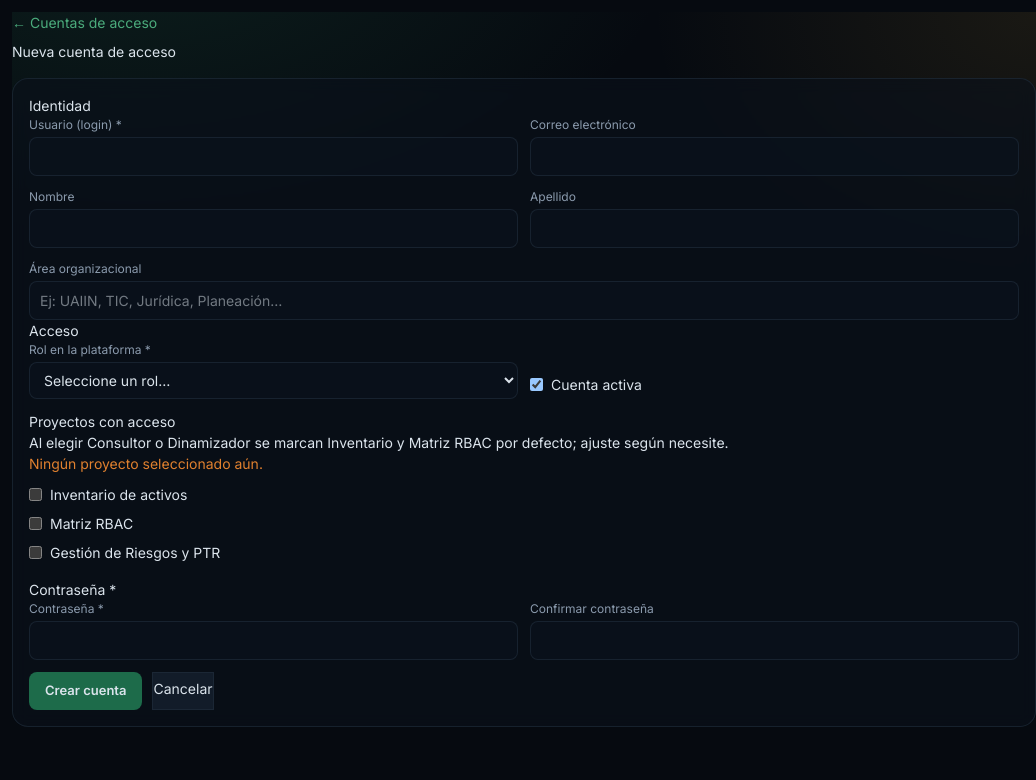
Test case: UsuarioPlataformaForm — alta › al elegir Consultor marca Inventario y RBAC por defecto
The image size is (1036, 780).
Select "Consultor — solo lectura" in the dropdown labelled "Rol en la plataforma *". click: (274, 380)
box: x1=29 y1=362 x2=518 y2=399
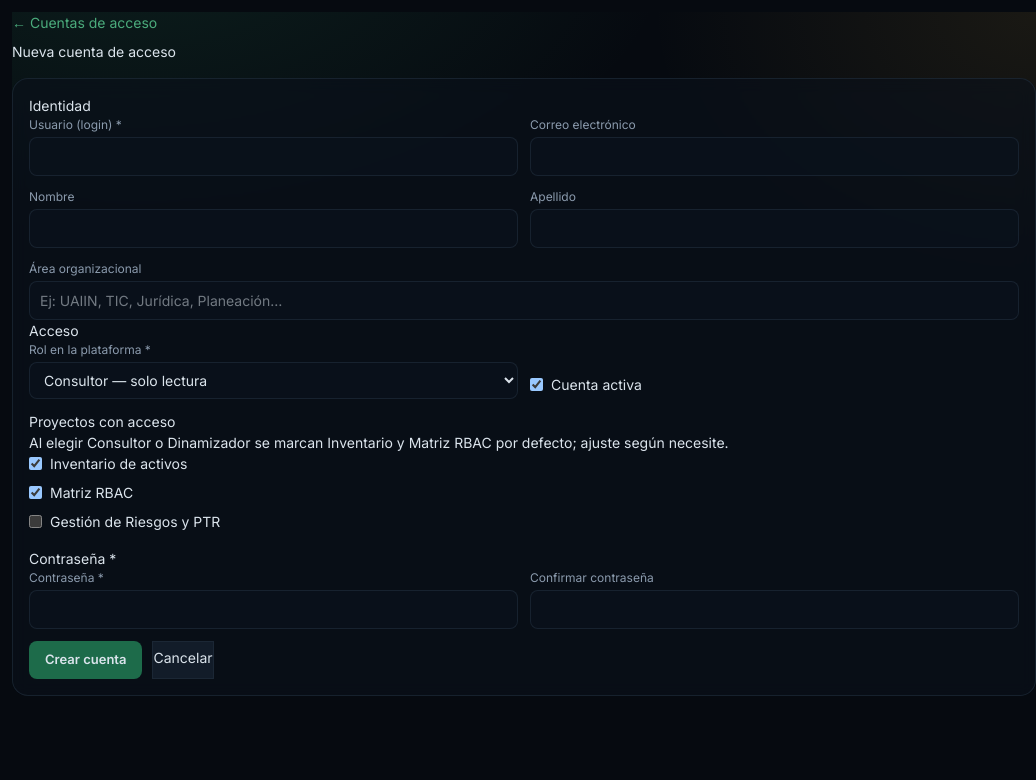
Result: the checkbox labelled "Inventario de activos" is checked at x1=29 y1=457 x2=42 y2=470
Result: the checkbox labelled "Matriz RBAC" is checked at x1=29 y1=486 x2=42 y2=499
Result: the text "Ningún proyecto seleccionado" is gone
